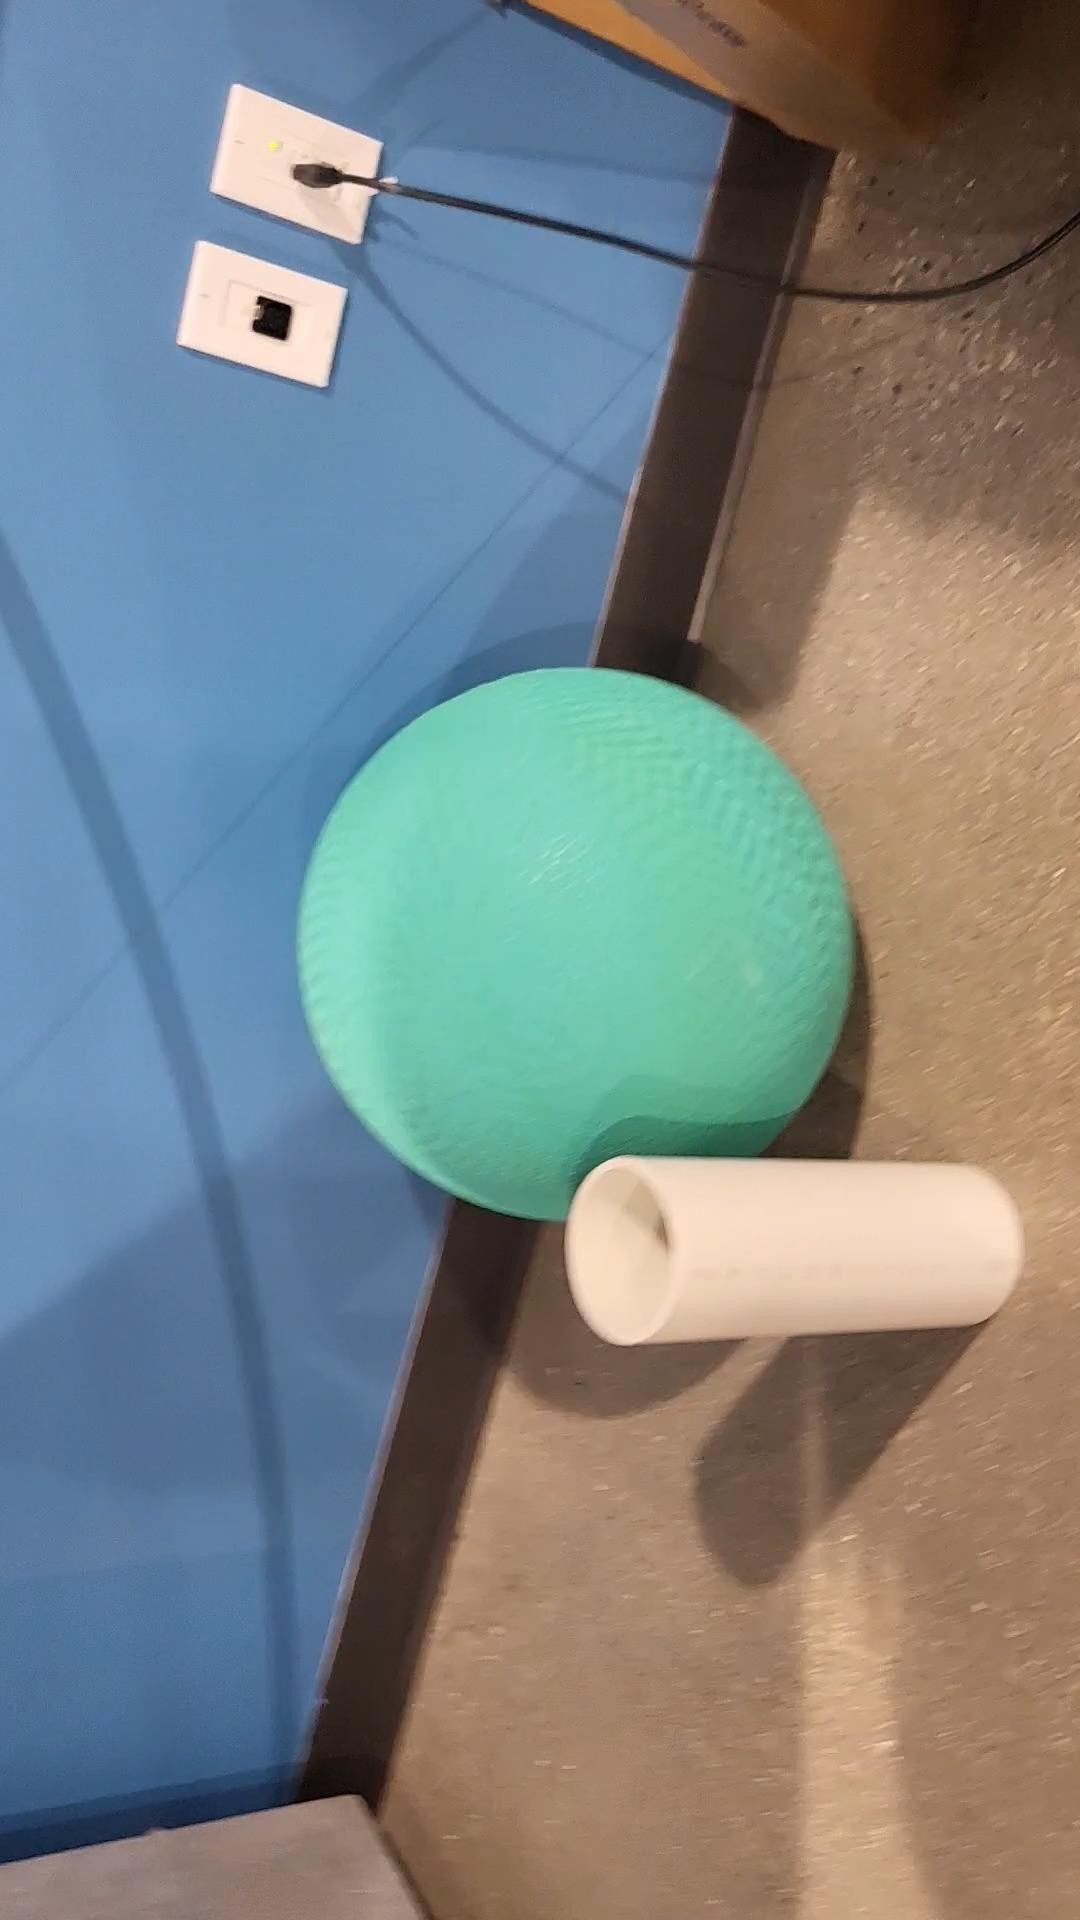algae: (305, 665, 852, 1222)
coral: (570, 1160, 1018, 1345)
